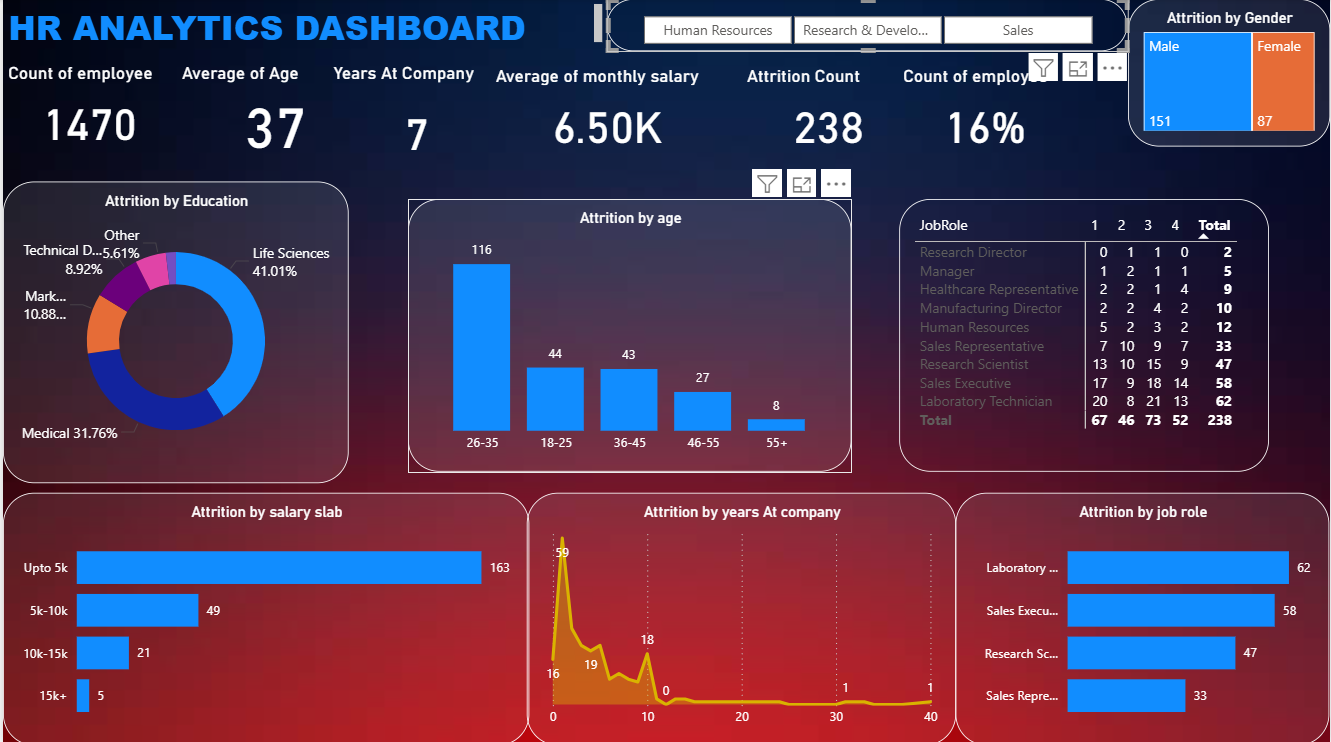

This screenshot's page, from the dashboard's own definition file:
{"tool":"powerbi","page":{"name":"Page 2","canvas":[1280,720],"ordinal":1},"visuals":[{"type":"treemap","title":" Attrition by Gender","fields":{"Group":["HR_Analytics.Gender"],"Values":["Sum(HR_Analytics.AttritionCount)"]},"box":[1085.4,0,194.9,142.7],"z":0},{"type":"slicer","fields":{"Values":["HR_Analytics.Department"]},"box":[583.2,0,502.2,50.8],"z":1000},{"type":"textbox","box":[0,0,583.2,50.8],"z":2000},{"type":"barChart","title":" Attrition by job role ","fields":{"Category":["HR_Analytics.JobRole"],"Y":["Sum(HR_Analytics.AttritionCount)"]},"box":[919.4,476.2,360.9,244.3],"z":3000},{"type":"areaChart","title":" Attrition by years At company","fields":{"Category":["HR_Analytics.YearsAtCompany"],"Y":["Sum(HR_Analytics.AttritionCount)"]},"box":[505,476.2,414.4,244.3],"z":4000},{"type":"barChart","title":" Attrition by salary slab","fields":{"Category":["HR_Analytics.SalarySlab"],"Y":["Sum(HR_Analytics.AttritionCount)"]},"box":[0,476.2,507.7,244.3],"z":5000},{"type":"donutChart","title":" Attrition by Education","fields":{"Category":["HR_Analytics.EducationField"],"Y":["CountNonNull(HR_Analytics.AttritionCount)"]},"box":[0,175.6,333.4,290.9],"z":6000},{"type":"columnChart","title":" Attrition by age","fields":{"Category":["HR_Analytics.AgeGroup"],"Y":["Sum(HR_Analytics.AttritionCount)"]},"box":[391.1,193.5,428.1,263.5],"z":7000},{"type":"pivotTable","title":" Attrition by Education","fields":{"Rows":["HR_Analytics.JobRole"],"Columns":["HR_Analytics.JobSatisfaction"],"Values":["Sum(HR_Analytics.AttritionCount)"]},"box":[864.5,193.5,356.8,263.5],"z":8000},{"type":"card","title":"Count of employee","fields":{"Values":["Count(HR_Analytics.EmpID)"]},"box":[0,61.7,167.4,91.9],"z":9000},{"type":"card","title":"Average of Age ","fields":{"Values":["Avg(HR_Analytics.Age)"]},"box":[167.4,61.7,190.7,94.7],"z":10000},{"type":"card","title":"Years At Company","fields":{"Values":["Avg(HR_Analytics.YearsAtCompany)"]},"box":[314.2,61.7,171.5,111.1],"z":11000},{"type":"card","title":"Average of monthly salary","fields":{"Values":["Avg(HR_Analytics.MonthlyIncome)"]},"box":[470.7,64.5,226.4,91.9],"z":12000},{"type":"card","title":"Attrition Count","fields":{"Values":["Sum(HR_Analytics.AttritionCount)"]},"box":[712.5,63.9,168.1,91.7],"z":13000},{"type":"card","title":"Count of employee","fields":{"Values":["HR_Analytics.Attrition rate"]},"box":[863.9,63.9,168.1,91.7],"z":14000}]}

Visuals, with their boxes in screenshot pixels (x1, y1, x2, y2), scaled from the page's 1280x720 canvas onto the 1331x742 screenshot:
" Attrition by Gender" treemap: box=[1129, 0, 1330, 147]
slicer - HR_Analytics.Department: box=[606, 0, 1129, 52]
textbox: box=[0, 0, 606, 52]
" Attrition by job role " barChart: box=[956, 491, 1330, 741]
" Attrition by years At company" areaChart: box=[525, 491, 956, 741]
" Attrition by salary slab" barChart: box=[0, 491, 528, 741]
" Attrition by Education" donutChart: box=[0, 181, 347, 481]
" Attrition by age" columnChart: box=[407, 199, 852, 471]
" Attrition by Education" pivotTable: box=[899, 199, 1270, 471]
"Count of employee" card: box=[0, 64, 174, 158]
"Average of Age " card: box=[174, 64, 372, 161]
"Years At Company" card: box=[327, 64, 505, 178]
"Average of monthly salary" card: box=[489, 66, 725, 161]
"Attrition Count" card: box=[741, 66, 916, 160]
"Count of employee" card: box=[898, 66, 1073, 160]
